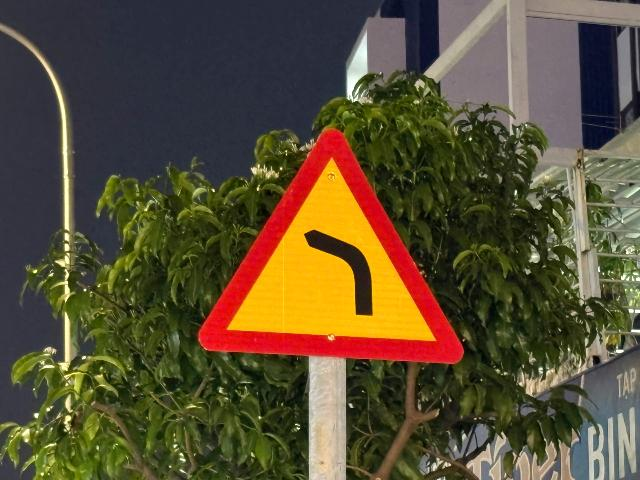cho-ngoat-nguy-hiem-ben-trai: (195, 124, 463, 363)
